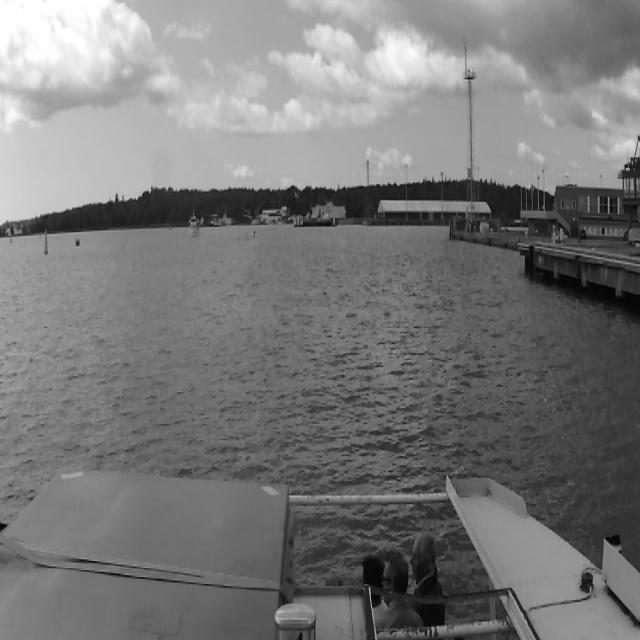buoy: (44, 230, 48, 253)
ship: (220, 212, 232, 226), (190, 210, 198, 228), (250, 230, 258, 239), (76, 240, 80, 246)
